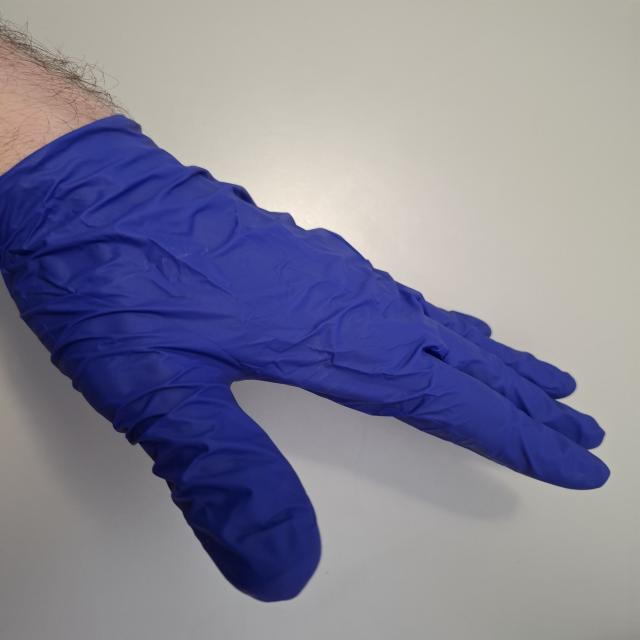glove_on: (0, 110, 618, 607)
